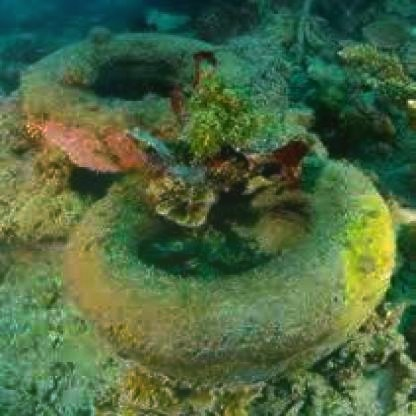tire: (51, 153, 398, 383), (16, 28, 278, 176)
